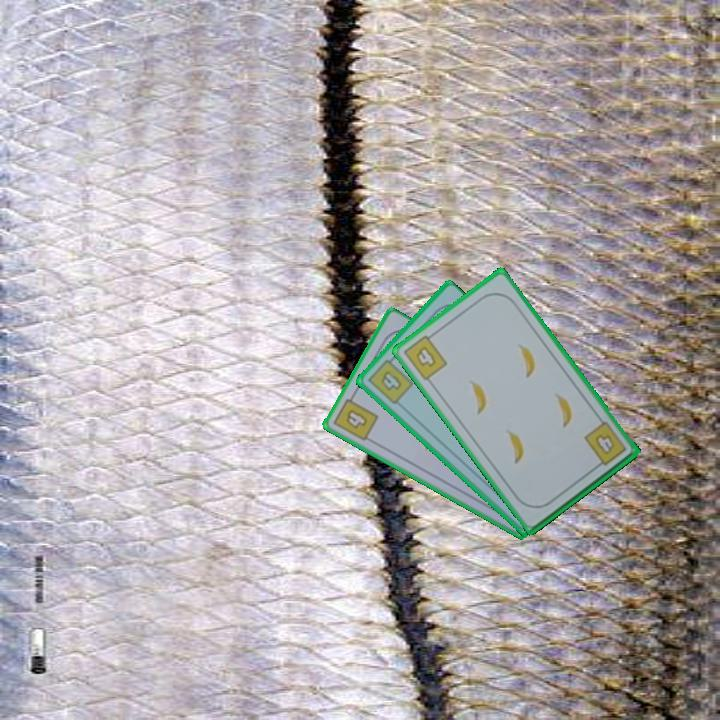4b: (364, 352, 416, 408), (330, 390, 381, 444), (400, 329, 450, 383), (580, 418, 629, 471)
